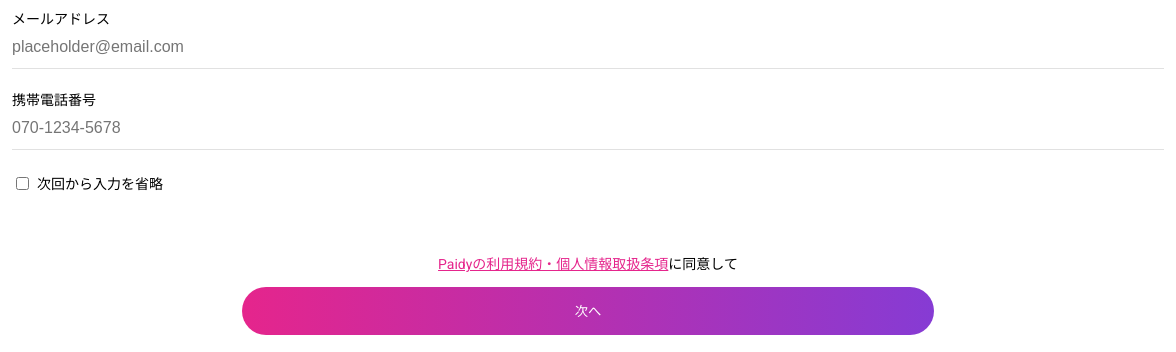
Test: Form › Phone input validation: › Enforces maximum character length
This screenshot has width=1176, height=352.
Type "111-1111-1111444" into the field labelled "携帯電話番号". click: (588, 128)
box: left=12, top=107, right=1164, bottom=150
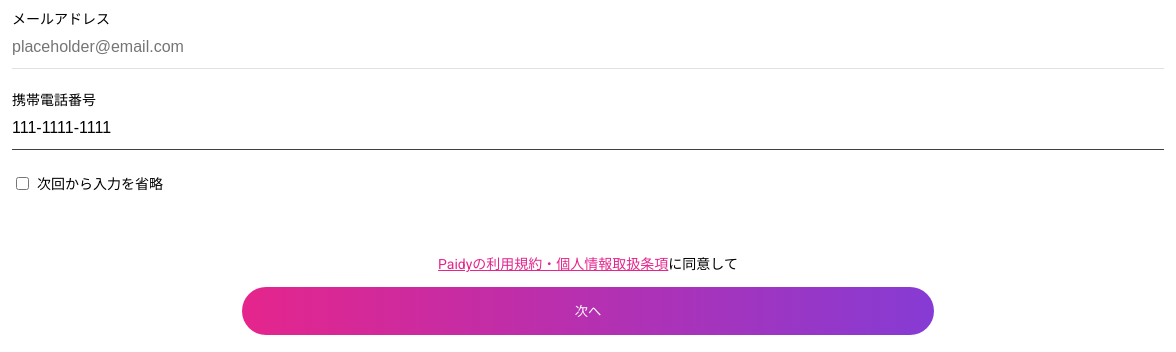
Expected: the field labelled "携帯電話番号" holds "111-1111-1111", left=12, top=107, right=1164, bottom=150
